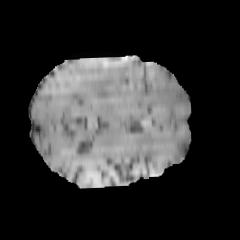glioma: (58, 56, 185, 111)
